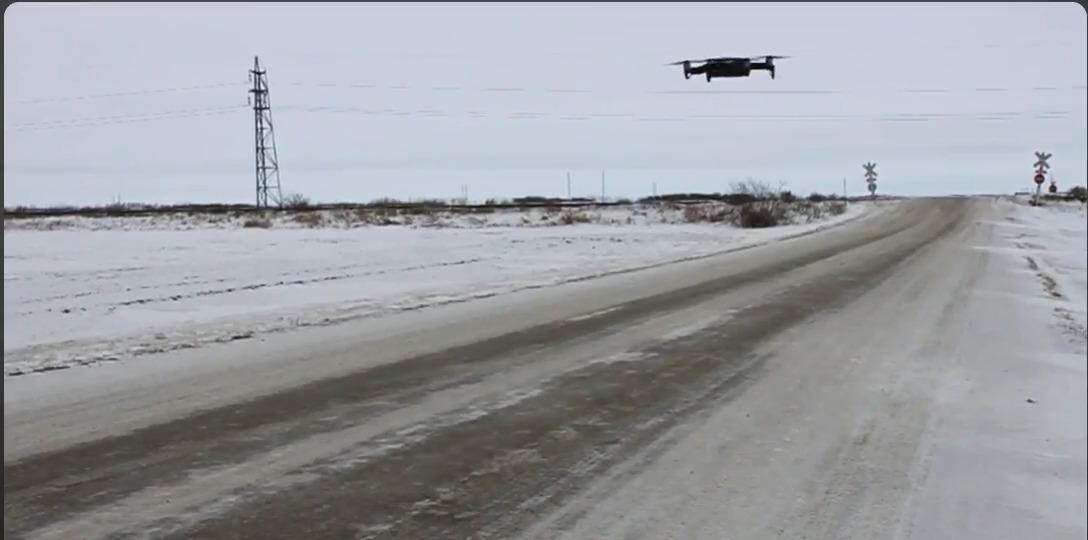dr: (659, 36, 826, 103)
